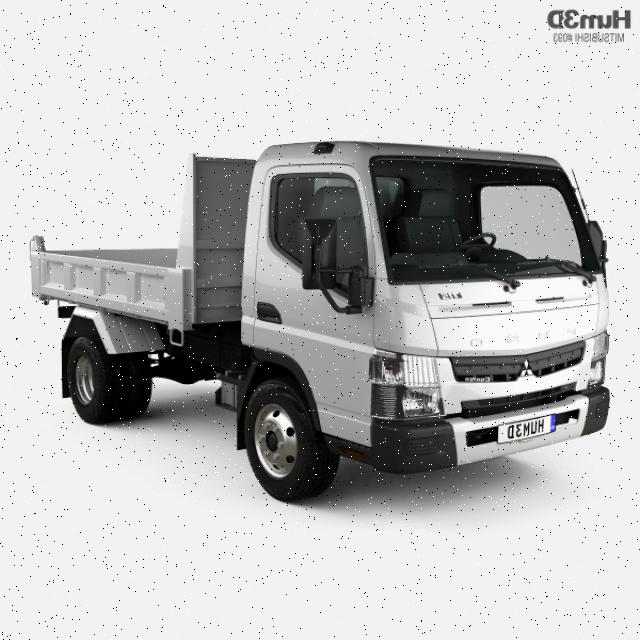truck: (31, 140, 608, 502)
